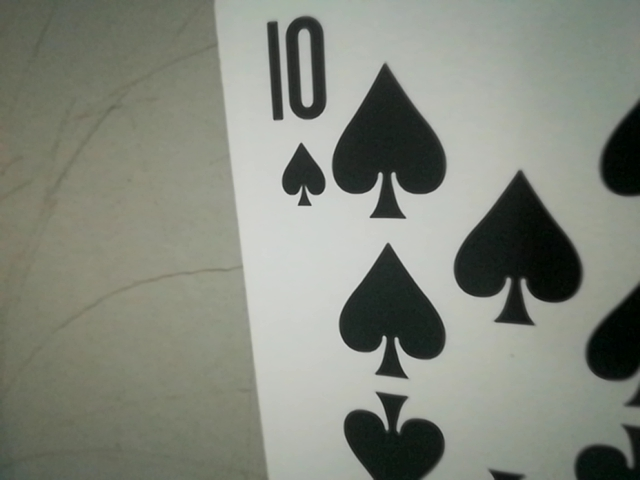ht 10: (260, 7, 343, 184)
